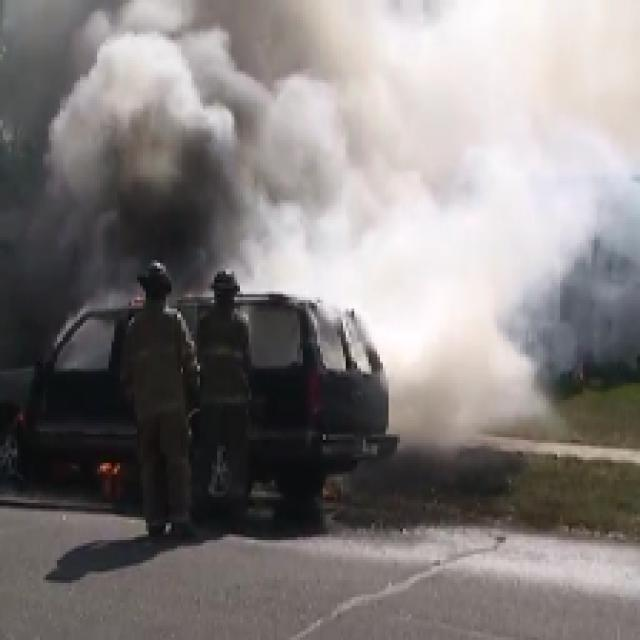Smoke: (44, 20, 568, 252), (392, 256, 527, 455)
